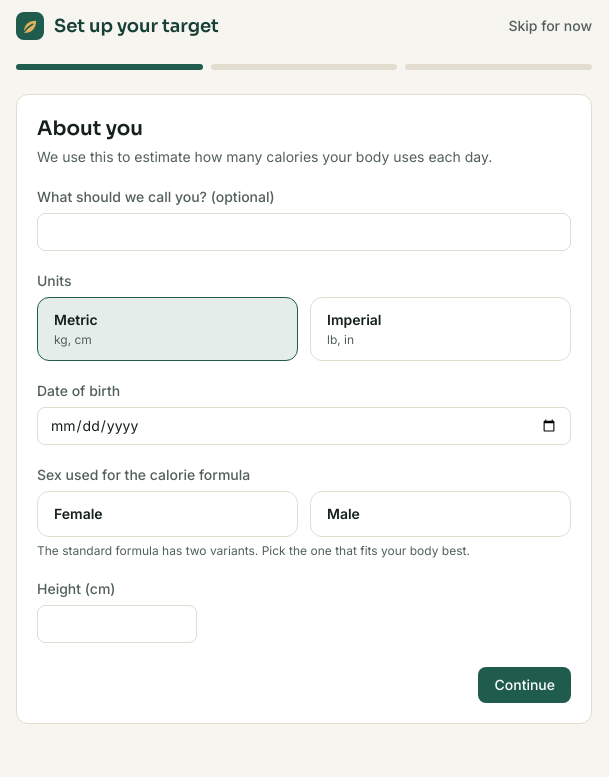
Test: setup wizard › won't continue until the basics are filled in, and says what's missing
Expected: the heading "About you" is shown, [37,116,143,141]
Click the button "Continue": (525,685) [478,667,571,703]
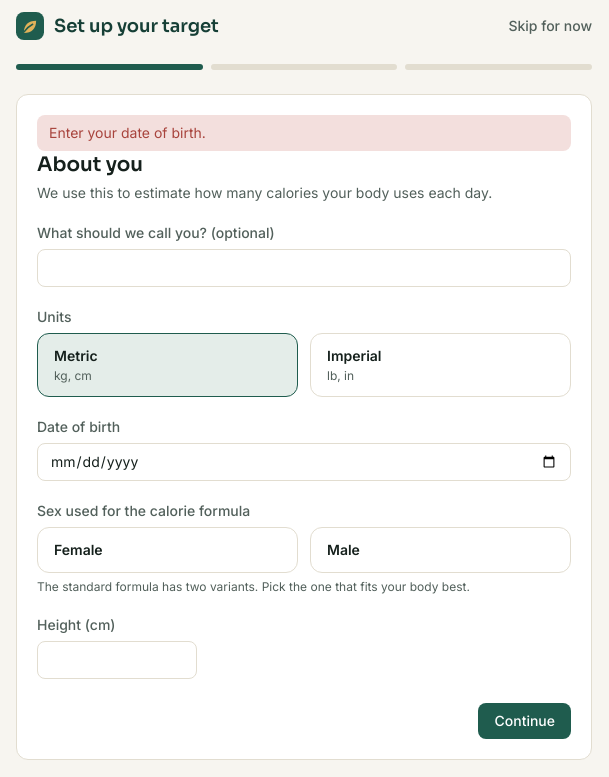
Result: the message "Enter your date of birth." is shown at [37,115,571,151]
Result: the message shows "date of birth" at [49,124,206,141]
